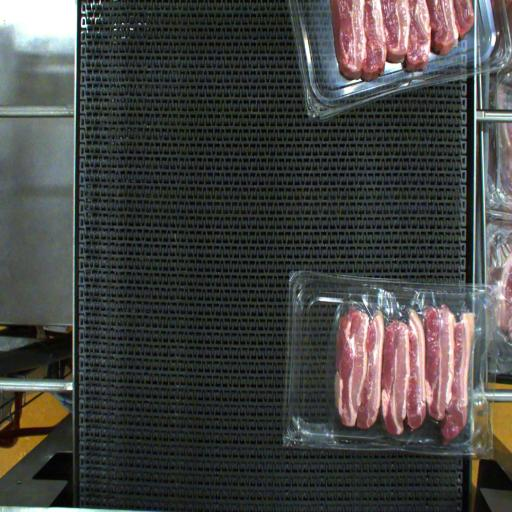unsealed: (335, 296, 479, 364)
